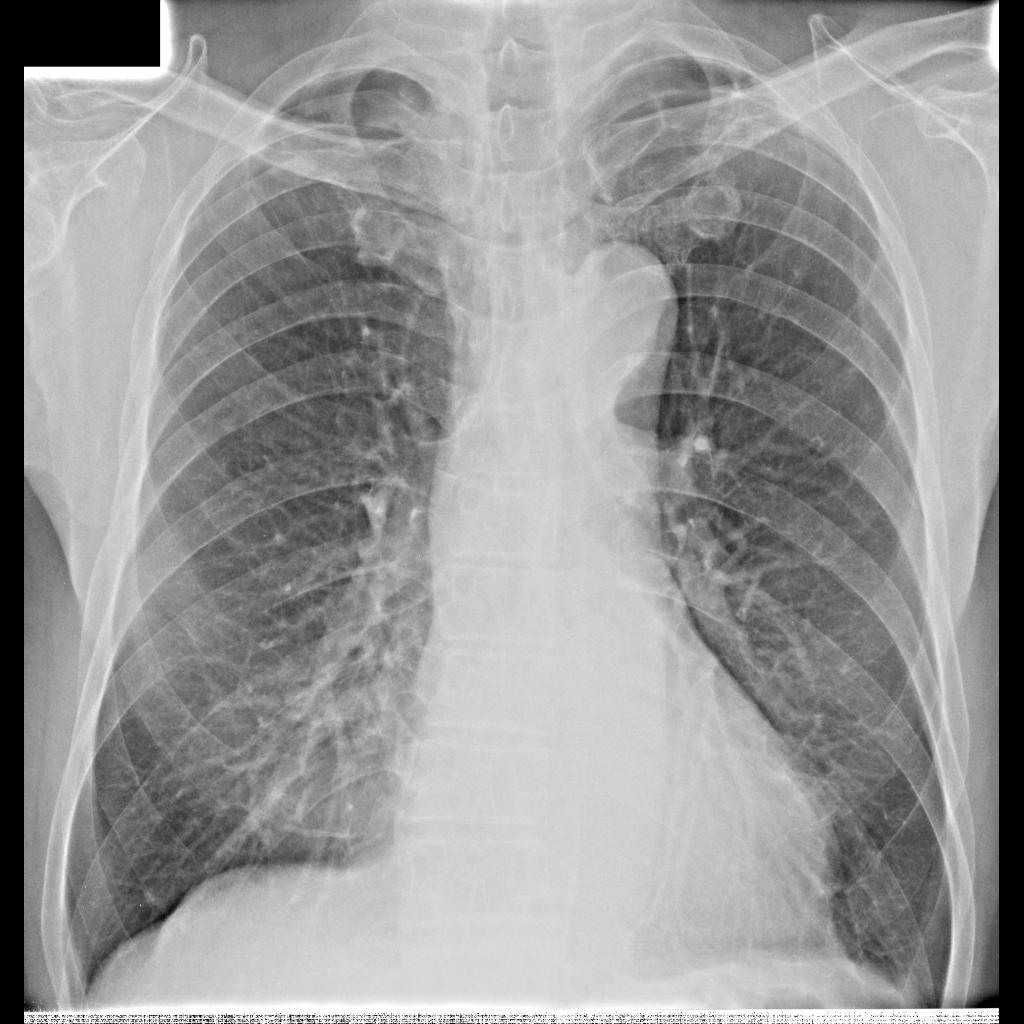Nodule: (267, 145, 312, 190)
